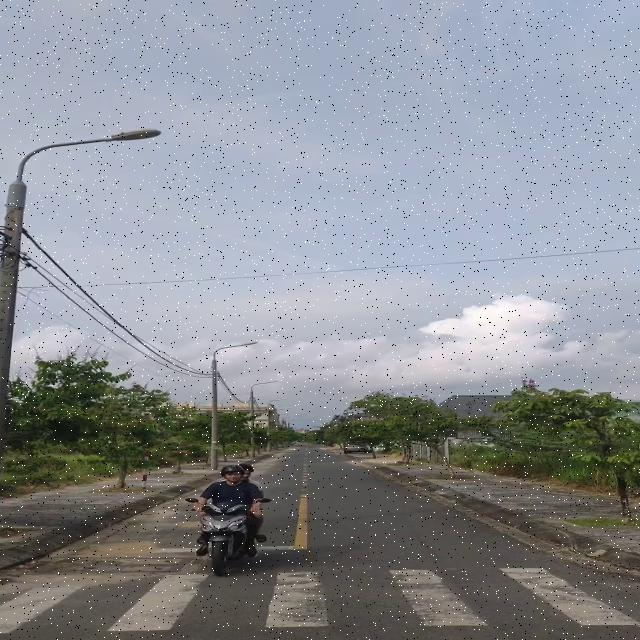helmet: (220, 464, 247, 489)
